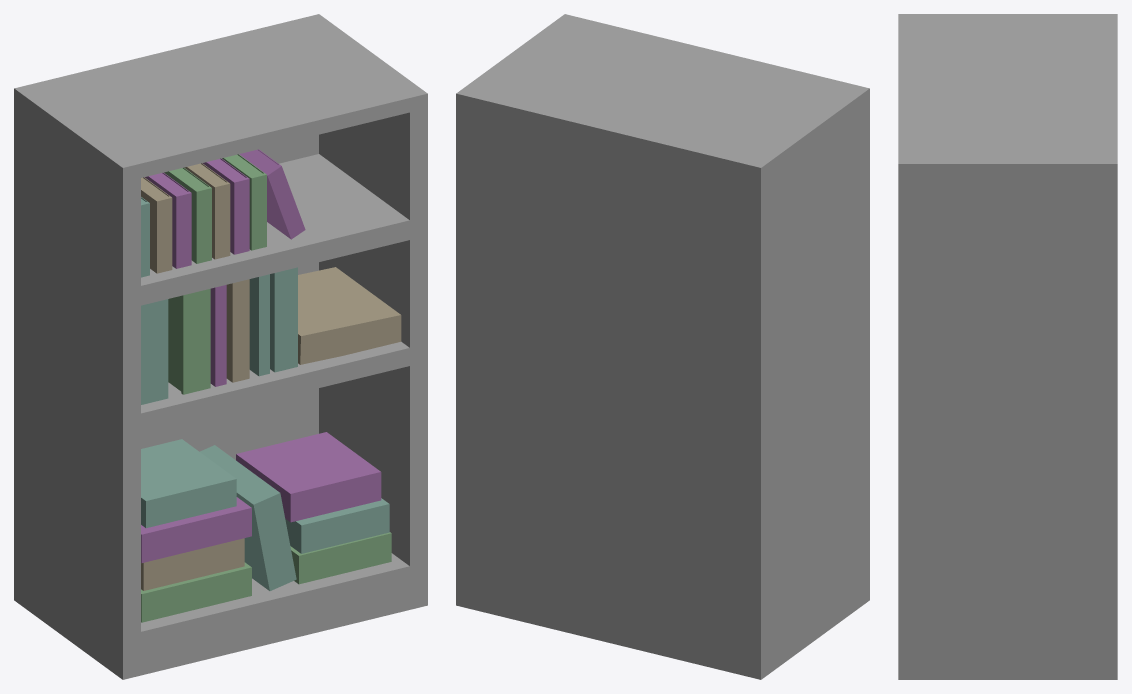
File: Bookcase.fbx
The picture shows the model from 3 angles, left to right: view 1: azimuth 30°, elevation 25°; view 2: azimuth 150°, elevation 25°; view 3: azimuth 270°, elevation 25°; orthographic projection.
Parts seen in each view (by area): view 1: pCube5, pasted__pasted__group9_pasted__group4_pasted__pasted__pCube8 (×10), pasted__group9_pasted__group4_pasted__pasted__pCube8 (×4), pasted__pCube6 (×4), pasted__pasted__pCube6 (×2), pasted__pasted__pasted__pCube6, pCube6, group9_pasted__group4_pasted__pasted__pCube8; view 2: pCube5; view 3: pCube5.
Boxes of the visible parts, <box> form: pCube5: <box>14,14,427,679</box>; pasted__pasted__group9_pasted__group4_pasted__pasted__pCube8 (×10): <box>141,149,305,382</box>; pasted__group9_pasted__group4_pasted__pasted__pCube8 (×4): <box>141,197,401,394</box>; pasted__pCube6 (×4): <box>141,497,391,590</box>; pasted__pasted__pCube6 (×2): <box>141,439,296,590</box>; pasted__pasted__pasted__pCube6: <box>236,432,381,522</box>; pCube6: <box>141,562,251,622</box>; group9_pasted__group4_pasted__pasted__pCube8: <box>141,299,168,404</box>; pCube5: <box>456,14,869,679</box>; pCube5: <box>898,14,1117,679</box>.
Bounding box in the file's own units: 6.88 × 11.03 × 4.25.
